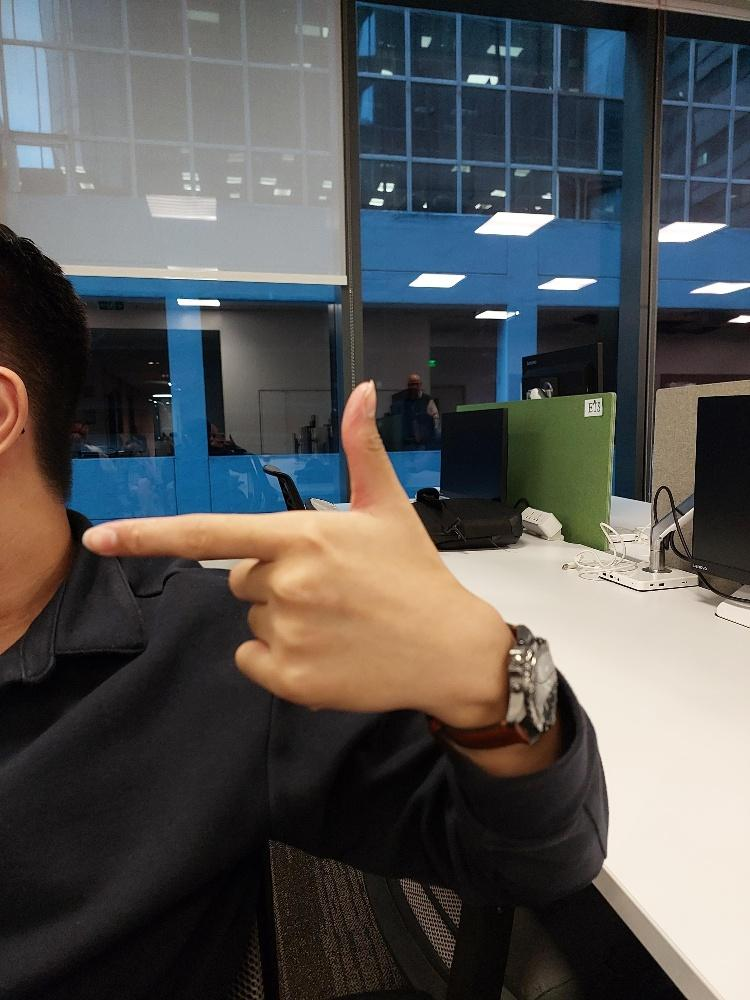g: (83, 380, 433, 711)
